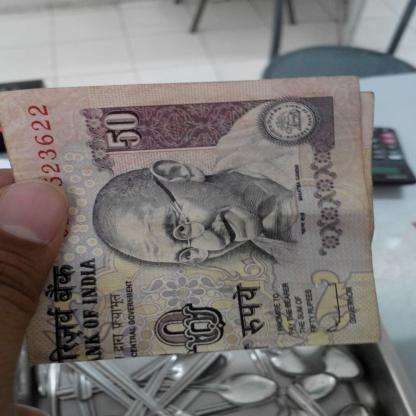Old50Front: (0, 75, 384, 367)
